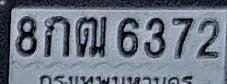2: (197, 18, 219, 58)
3: (144, 17, 165, 57)
6: (118, 17, 139, 57)
7: (172, 17, 194, 58)
8: (16, 16, 37, 56)
A01: (44, 15, 70, 57)
A18: (76, 16, 107, 57)
